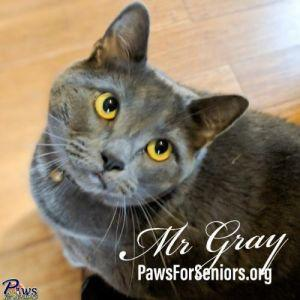rblue: (40, 2, 244, 198)
